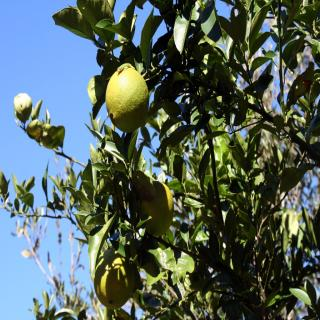Lemon: (105, 67, 150, 134), (94, 248, 136, 309), (140, 181, 174, 237)
Orange: (105, 67, 150, 133), (94, 252, 135, 310), (140, 180, 176, 238)
